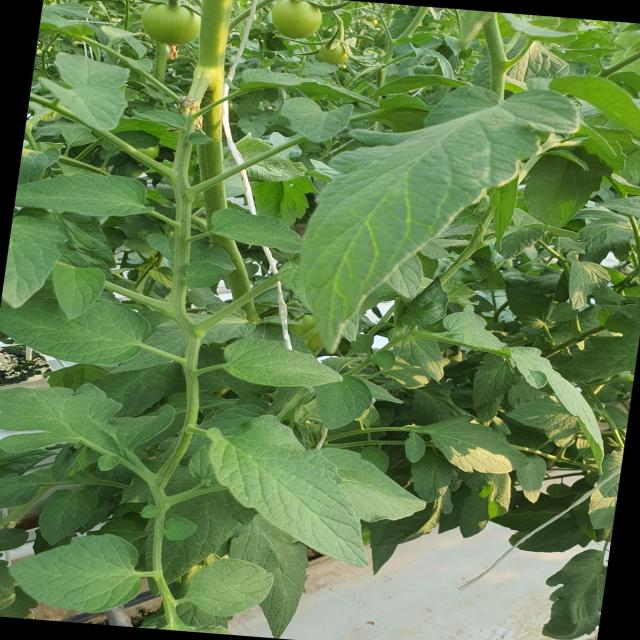Healthy Leaf: (296, 94, 604, 359), (196, 411, 375, 570), (0, 529, 165, 619), (3, 290, 157, 368), (14, 166, 152, 234), (172, 545, 295, 621), (35, 50, 135, 136), (215, 333, 345, 392), (421, 412, 534, 475), (274, 91, 362, 145)
